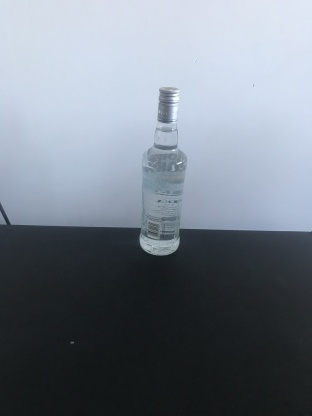nakretka: (156, 84, 181, 123)
